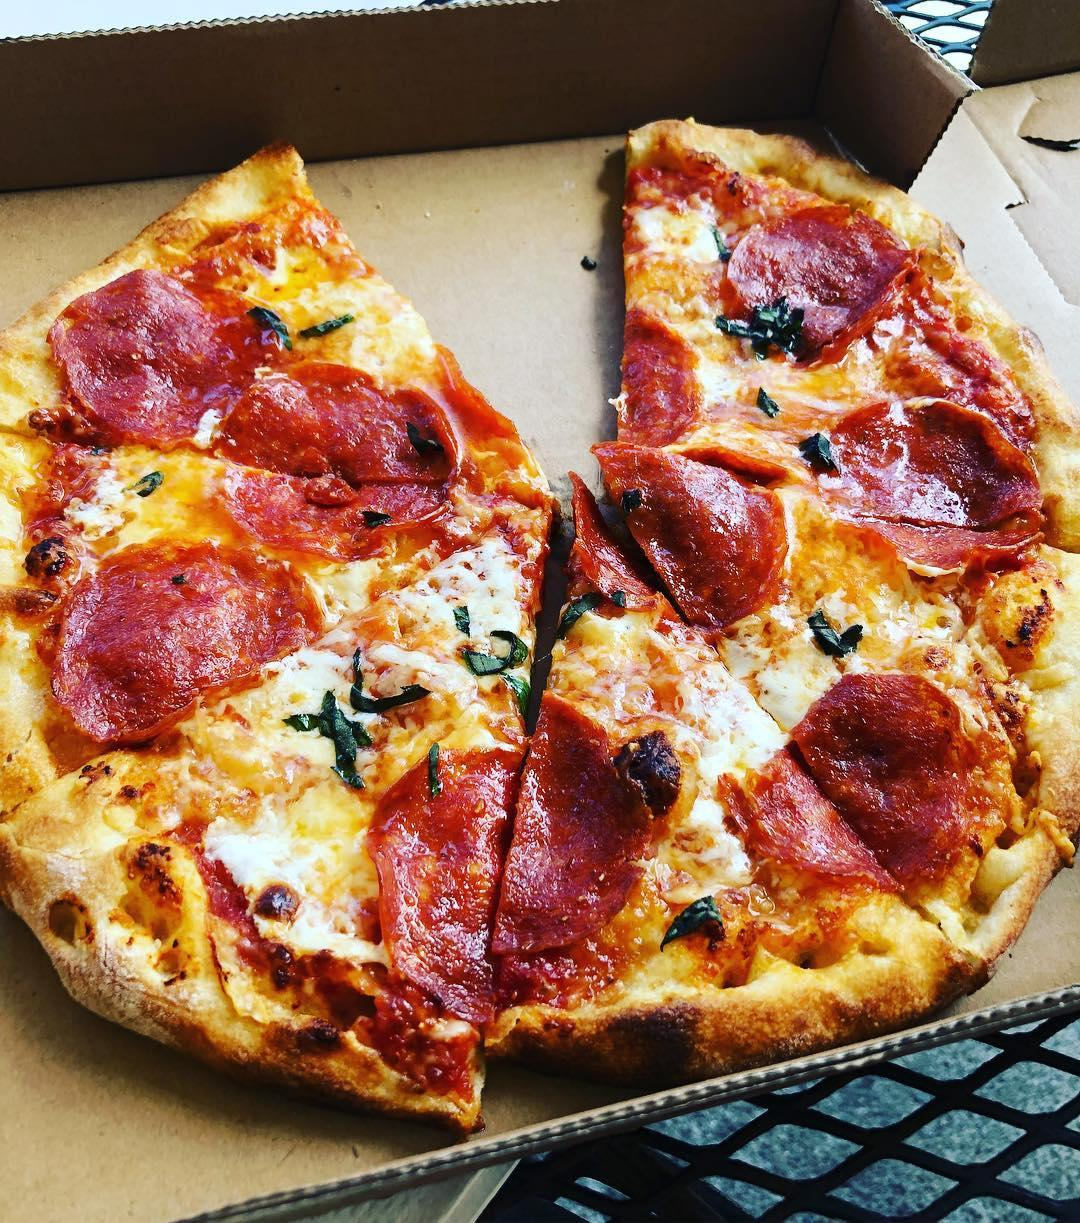Pepperoni: (36, 539, 327, 759), (727, 659, 981, 907), (201, 351, 469, 565), (355, 736, 526, 1047), (809, 381, 1054, 592), (477, 677, 658, 963), (40, 260, 259, 461), (593, 433, 799, 639), (712, 189, 913, 370), (864, 274, 1045, 457), (554, 463, 659, 626), (616, 311, 706, 460)
Pizza: (0, 111, 1080, 1130)
